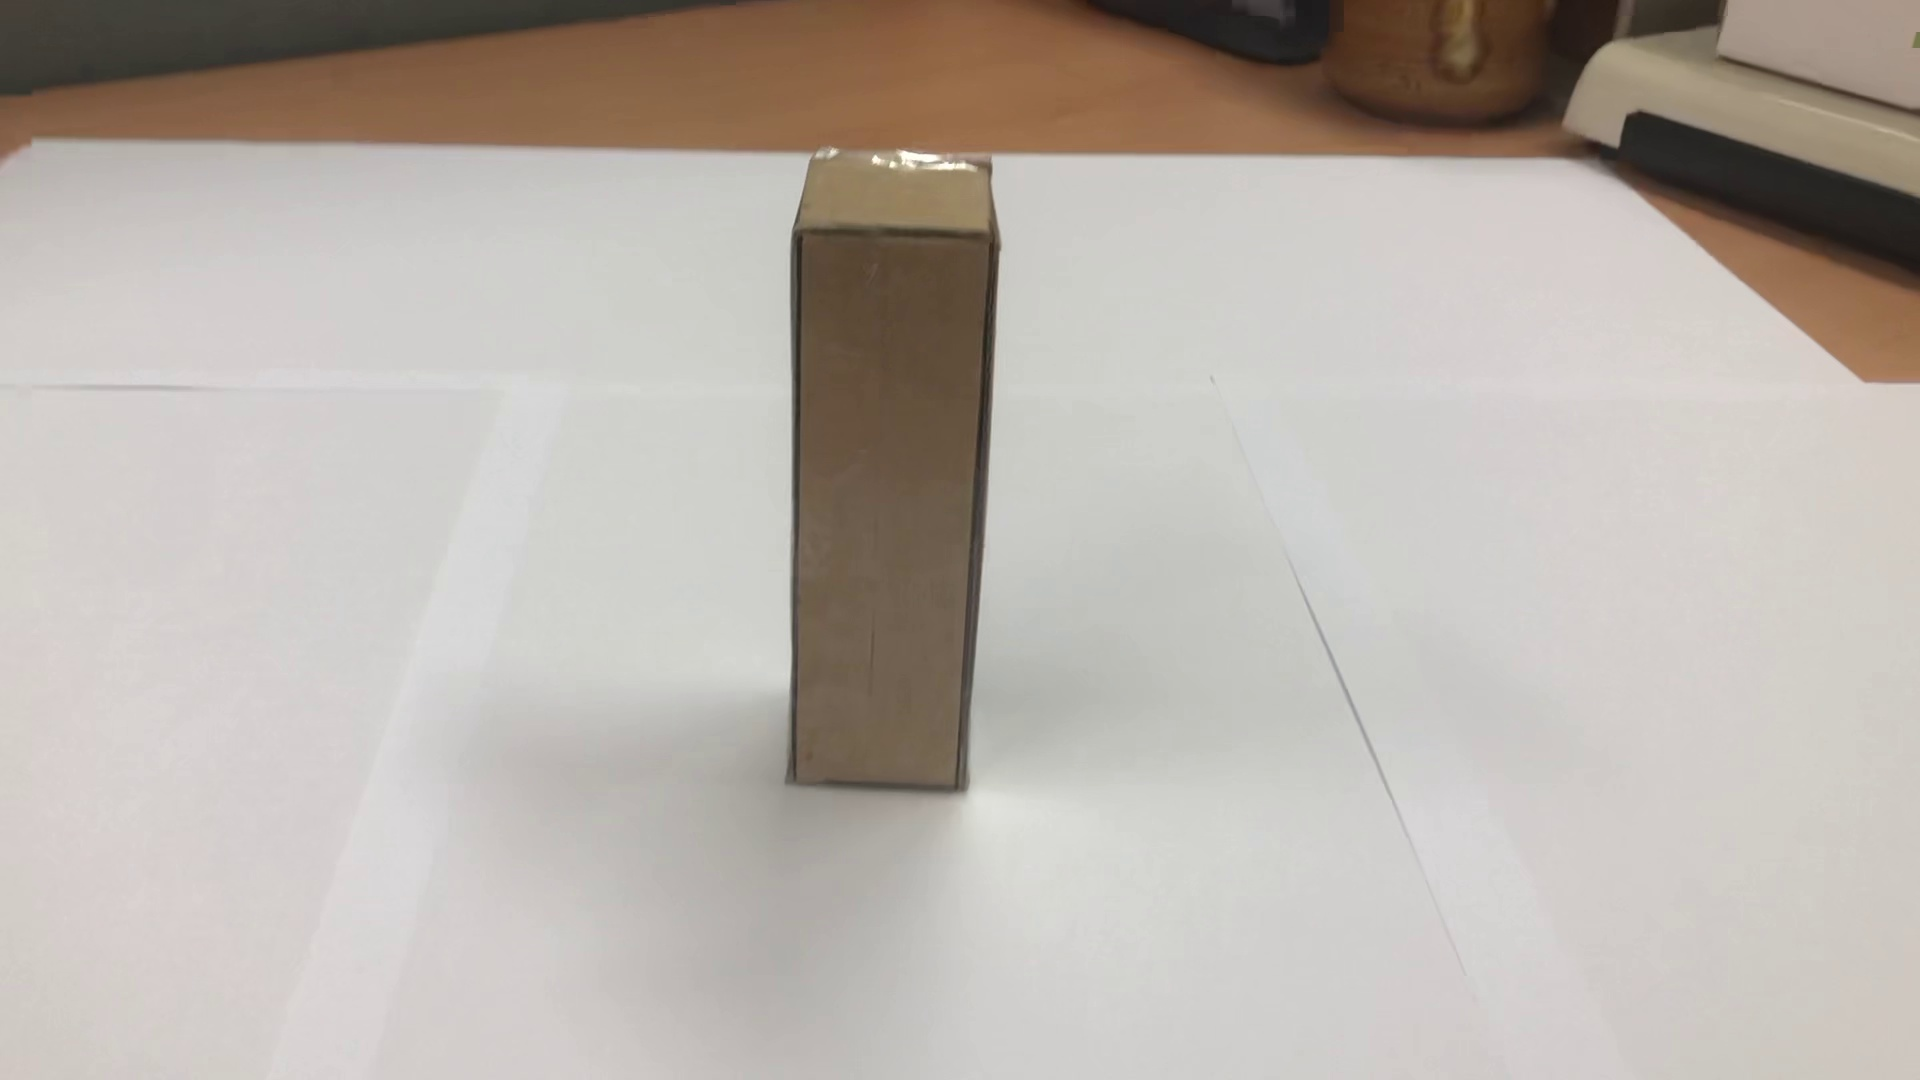box: (756, 135, 1043, 818)
